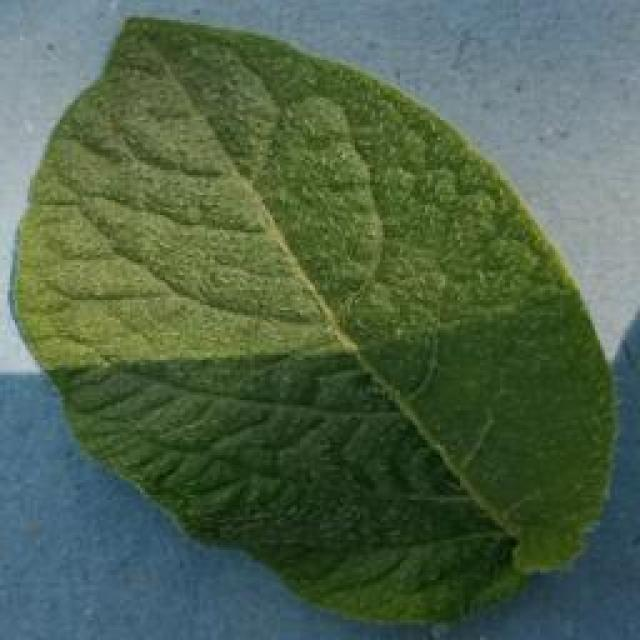Potato_Healthy: (0, 5, 626, 633)
